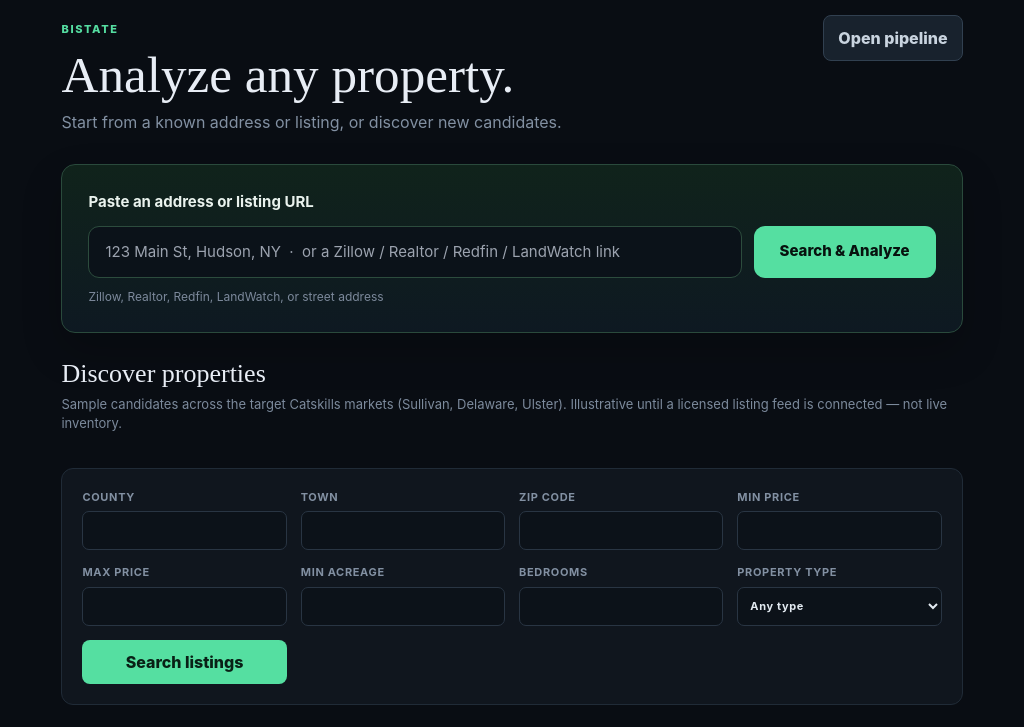
shows the empty-results message when a filtered search returns no matches
Type "Nowhere" into the field labelled "County" at (185, 530), box [82,511,287,550]
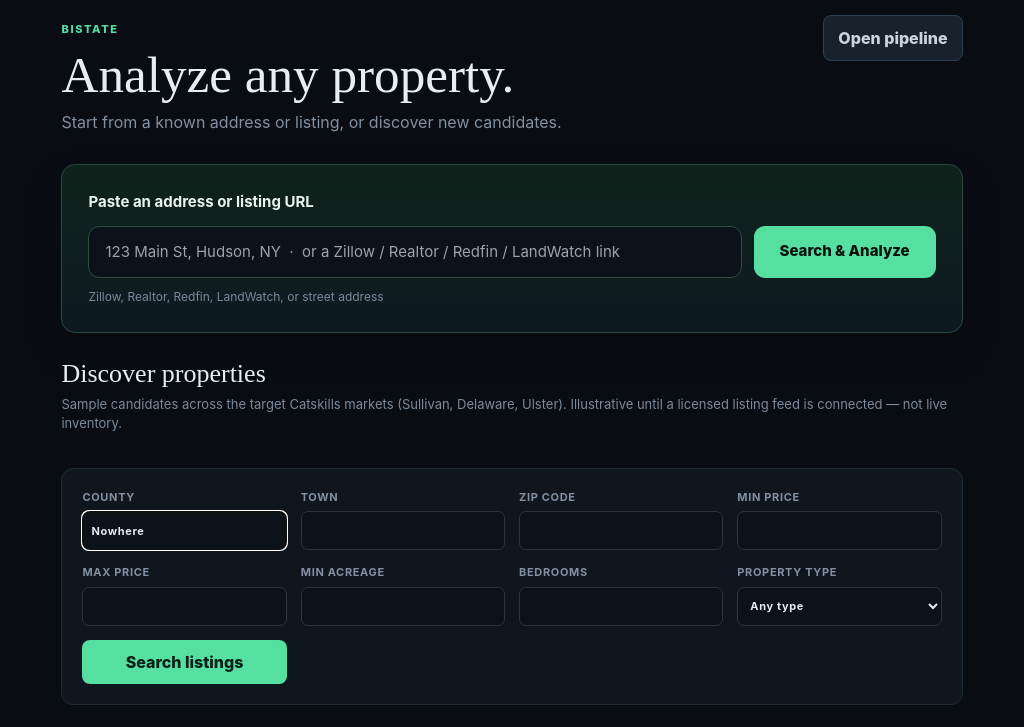
Click the button "Search listings" at (185, 662), box [82,640,287,684]
(page scrolled)
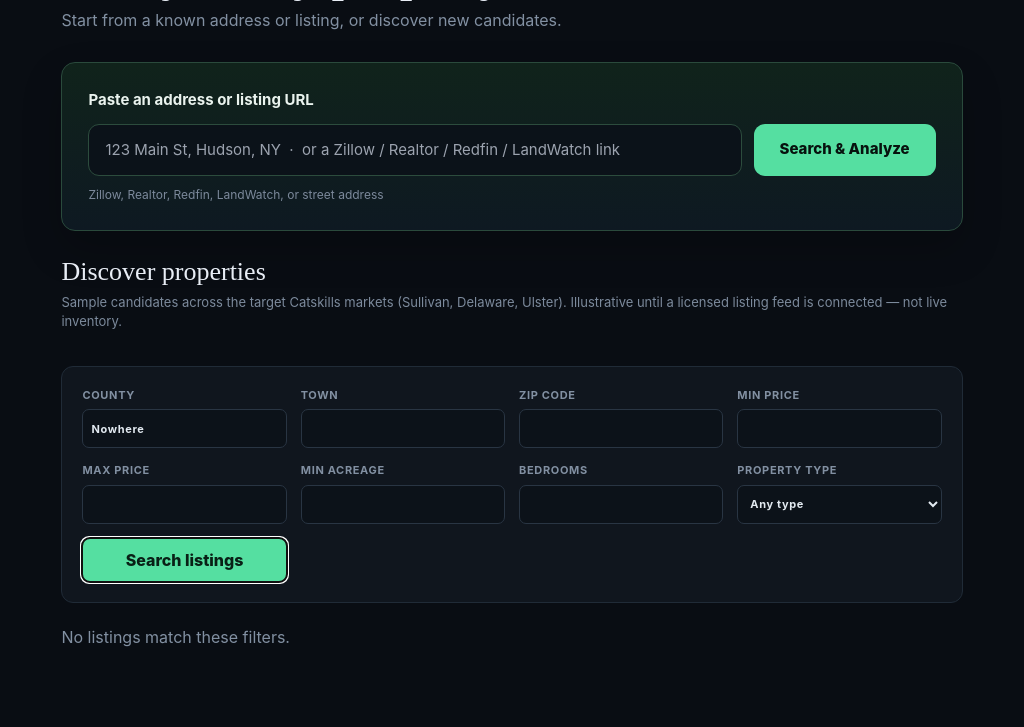
Expected: the text "No listings match these filters." is shown, [61,626,290,646]
